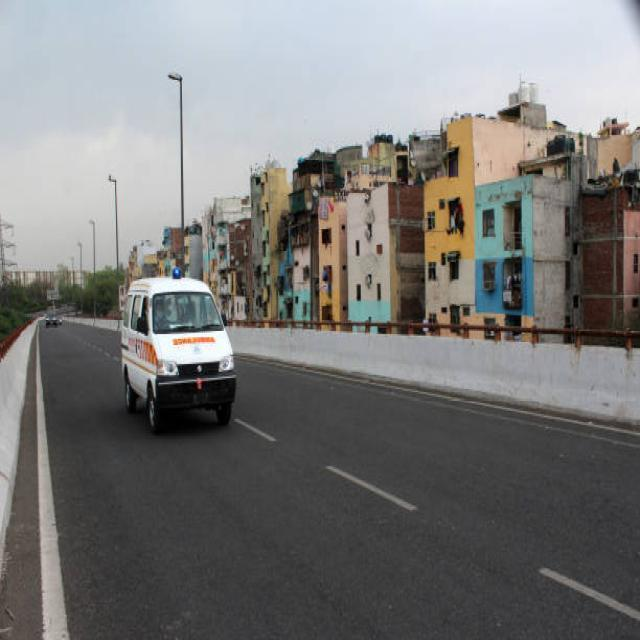emergency: (122, 262, 238, 430)
